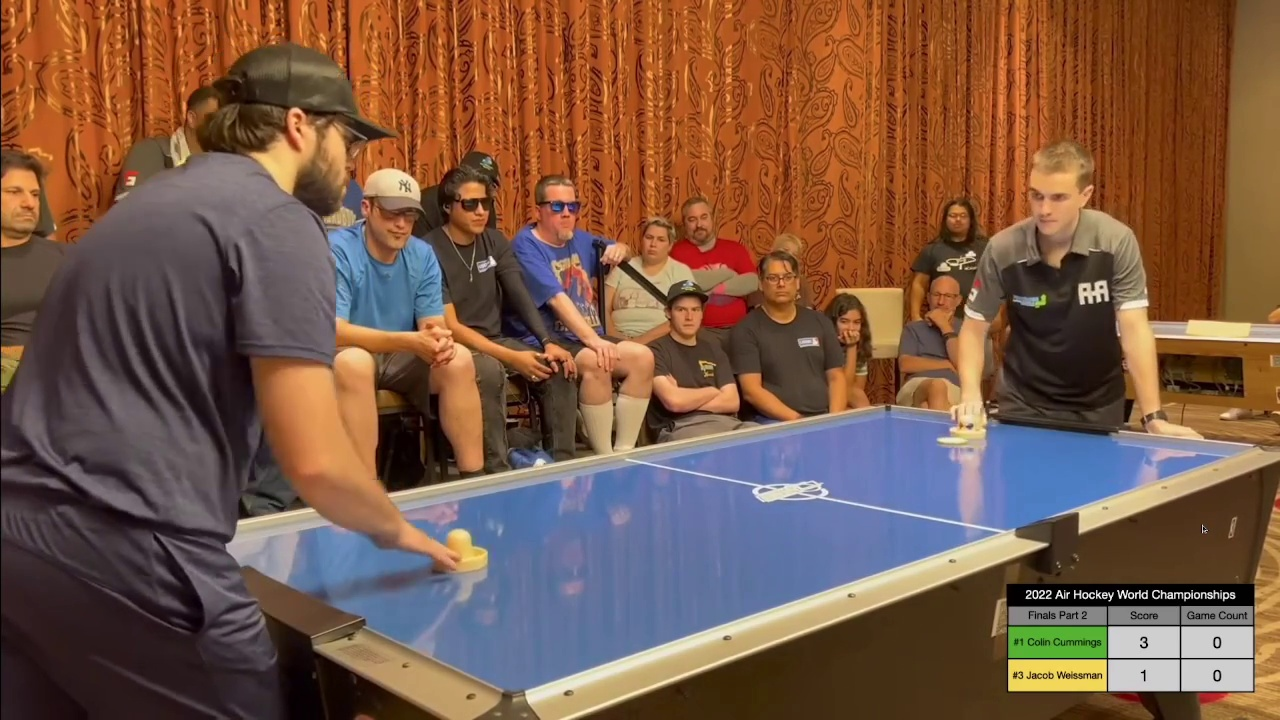player: (436, 527, 490, 571), (943, 412, 987, 440)
puck: (933, 433, 969, 448)
table: (216, 402, 1280, 699)
